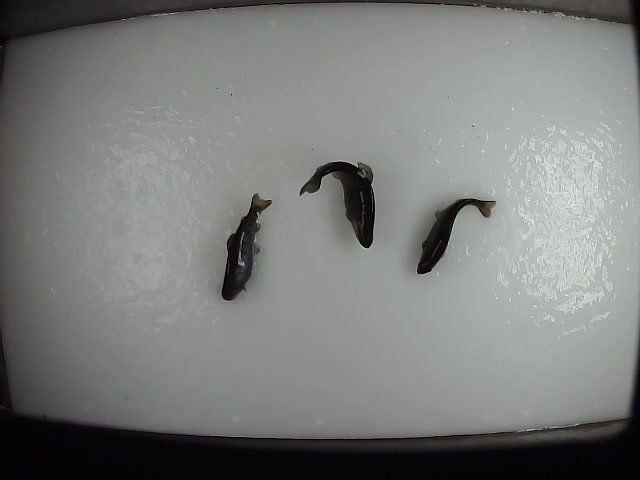fish: (296, 159, 377, 250), (413, 194, 499, 276), (217, 191, 273, 302)
